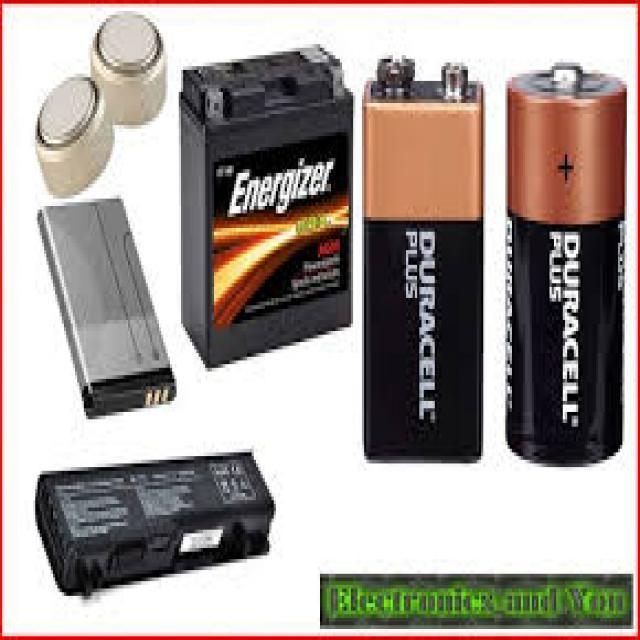battery: (181, 42, 352, 376), (364, 47, 484, 465), (508, 64, 624, 463), (34, 449, 278, 602), (29, 200, 177, 416)
